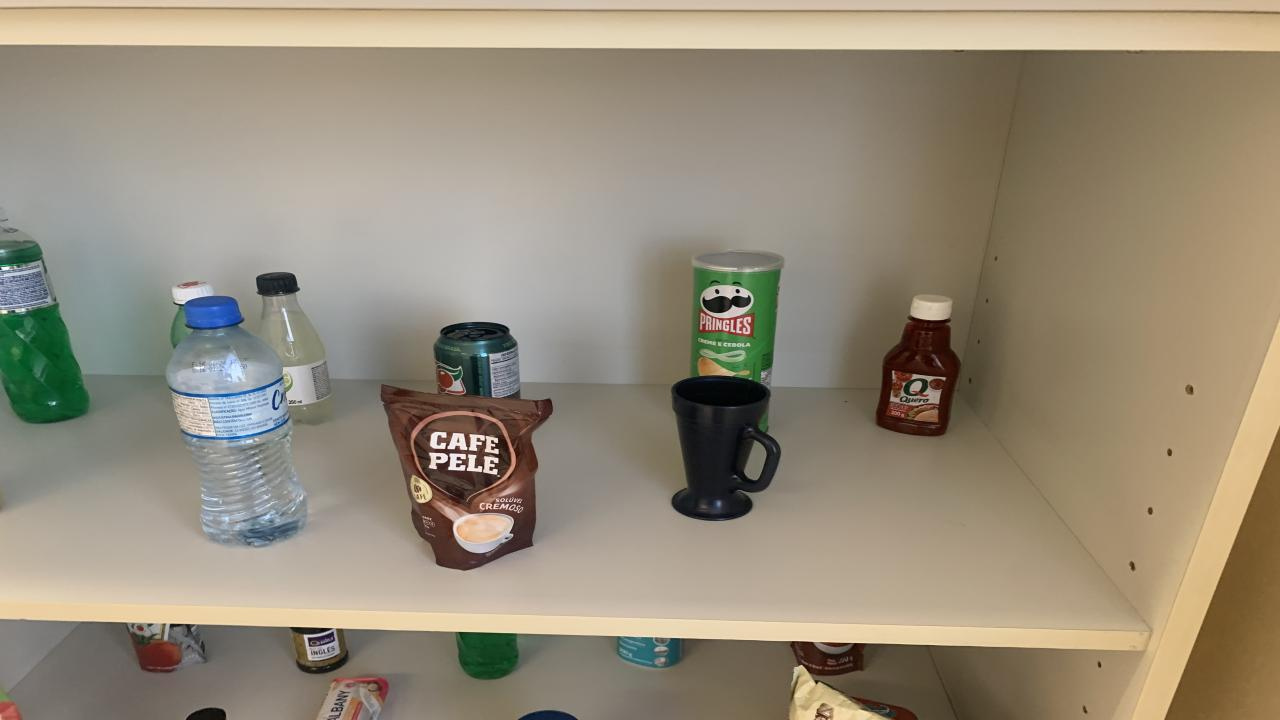Cleaner-Cleanup_Items: (618, 636, 682, 668)
Coffee-Pantry_Items: (380, 386, 552, 570)
Detergent-Cleanup_Items: (0, 208, 88, 422), (455, 632, 518, 679)
English_Sauce-Pantry_Items: (290, 628, 348, 673)
Flakes-Snacks: (788, 666, 885, 720)
Guarana-Drinks: (170, 281, 212, 349)
Guarana_Can-Drinks: (435, 322, 520, 398)
Ketchup-Pantry_Items: (875, 294, 960, 435)
Pringles-Snacks: (690, 249, 785, 386)
Soap-Cleanup_Items: (318, 677, 390, 720)
Soda-Drinks: (255, 272, 332, 424)
Tomato_Sauce-Pantry_Items: (128, 622, 208, 673), (790, 641, 865, 675)
Tuna_Can-Pantry_Items: (850, 698, 918, 720)
Water_Bottle-Drinks: (165, 296, 308, 546)
